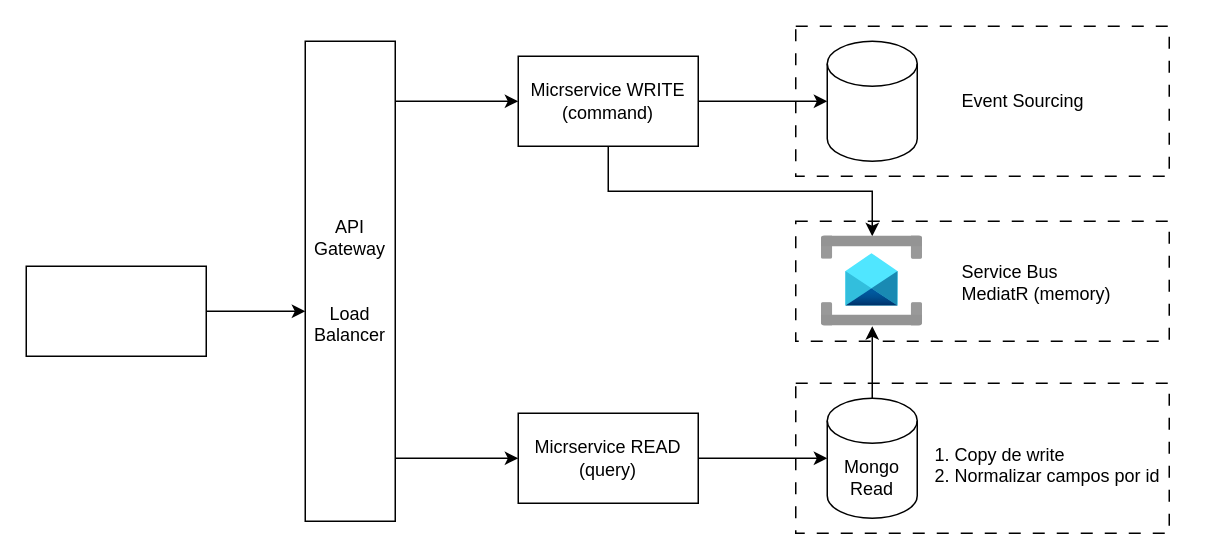
Image size: 1214x560. Some labels were removed from this diagram. The shapes that lost their labels are listed below. From the top down, each one's centre as x and y in pixels, then its label:
the point at 871,100: Mysql Write
the point at 115,310: UI
